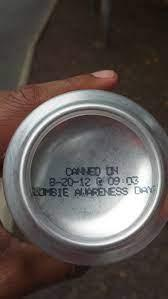metal: (7, 93, 168, 266)
